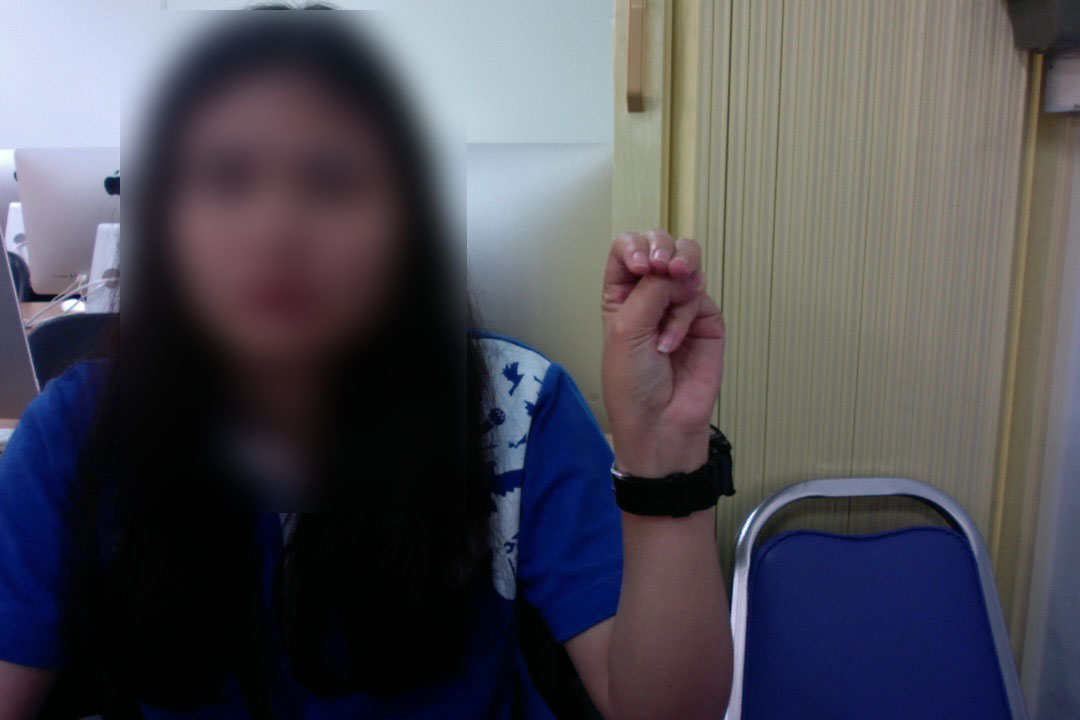mor: (591, 220, 735, 459)
